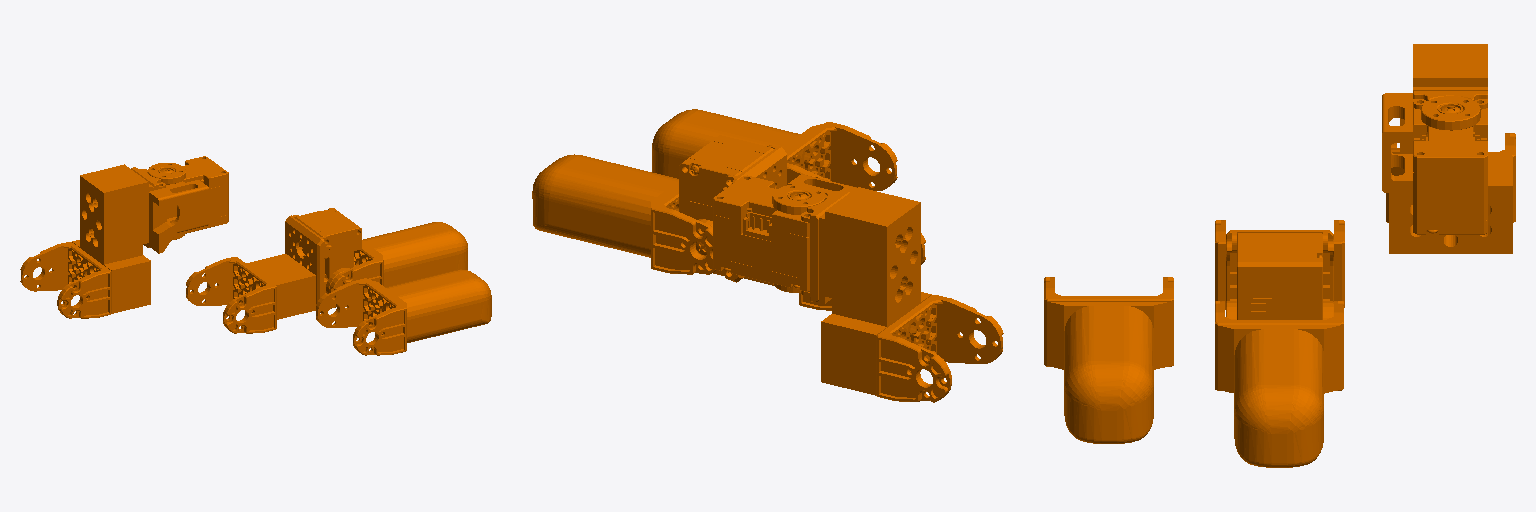
robot.urdf — onshape:
<robot name="onshape">
  <link name="palm_lower">
    <inertial>
      <origin xyz="0.0 0.0 0.0" rpy="0.0 -0.0 0.0"/>
      <mass value="0.237"/>
      <inertia ixx="0.000354094" ixy="-1.193e-06" ixz="-2.445e-06" iyy="0.000260915" iyz="-2.905e-06" izz="0.000529257"/>
    </inertial>
    <visual>
      <geometry>
        <mesh filename="../assets/leap/leap_hand/palm_lower.stl"/>
      </geometry>
      <origin xyz="-0.020095249652862544 0.025757756134899473 -0.034722403578460216" rpy="0.0 -0.0 0.0"/>
      <material name="palm_lower_material">
        <color rgba="0.6039215686274509 0.14901960784313725 0.14901960784313725 1.0"/>
      </material>
    </visual>
    <collision>
      <geometry>
        <mesh filename="../assets/leap/leap_hand/palm_lower.stl"/>
      </geometry>
      <origin xyz="-0.020095249652862544 0.025757756134899473 -0.034722403578460216" rpy="0.0 -0.0 0.0"/>
    </collision>
  </link>
  <link name="mcp_joint_long">
    <inertial>
      <origin xyz="0.0 0.0 0.0" rpy="0.0 -0.0 0.0"/>
      <mass value="0.044"/>
      <inertia ixx="1.1499e-05" ixy="3.049e-06" ixz="1.21e-07" iyy="7.796e-06" iyz="1.12e-07" izz="1.4759e-05"/>
    </inertial>
    <visual>
      <geometry>
        <mesh filename="custom_models/mcp_joint_long.stl"/>
      </geometry>
      <origin xyz="0.008406902261174496 0.0077662438597169954 0.014657354985032912" rpy="1.6375789613221e-15 -1.021047330249102e-30 1.7177968783327987e-31"/>
      <material name="mcp_joint_material">
        <color rgba="0.878 0.467 0.0 1.0"/>
      </material>
    </visual>
    <collision>
      <geometry>
        <mesh filename="custom_models/mcp_joint_long.stl"/>
      </geometry>
      <origin xyz="0.008406902261174496 0.0077662438597169954 0.014657354985032912" rpy="1.6375789613221e-15 -1.021047330249102e-30 1.7177968783327987e-31"/>
    </collision>
  </link>
  <link name="pip">
    <inertial>
      <origin xyz="0.0 0.0 0.0" rpy="0.0 -0.0 0.0"/>
      <mass value="0.032"/>
      <inertia ixx="4.798e-06" ixy="1.2e-08" ixz="4e-09" iyy="2.862e-06" iyz="1.1e-08" izz="4.234e-06"/>
    </inertial>
    <visual>
      <geometry>
        <mesh filename="../assets/leap/leap_hand/pip.stl"/>
      </geometry>
      <origin xyz="0.009643363092271328 0.0002999999999999895 0.0007840340104173765" rpy="-1.5707963267948966 -1.5707963267948963 0.0"/>
      <material name="pip_material">
        <color rgba="0.7490196078431373 0.7490196078431373 0.7490196078431373 1.0"/>
      </material>
    </visual>
    <collision>
      <geometry>
        <mesh filename="../assets/leap/leap_hand/pip.stl"/>
      </geometry>
      <origin xyz="0.009643363092271328 0.0002999999999999895 0.0007840340104173765" rpy="-1.5707963267948966 -1.5707963267948963 0.0"/>
    </collision>
  </link>
  <link name="dip">
    <inertial>
      <origin xyz="0.0 0.0 0.0" rpy="0.0 -0.0 0.0"/>
      <mass value="0.037"/>
      <inertia ixx="5.542e-06" ixy="-6.07e-07" ixz="-1.7e-08" iyy="5.727e-06" iyz="-2.3e-08" izz="6.682e-06"/>
    </inertial>
    <visual>
      <geometry>
        <mesh filename="../assets/leap/leap_hand/dip.stl"/>
      </geometry>
      <origin xyz="0.021133352895225003 -0.00843211914670488 0.00978508816209524" rpy="-3.141592653589793 4.507511124216441e-32 4.439548105392361e-32"/>
      <material name="dip_material">
        <color rgba="0.8666666666666667 0.8666666666666667 0.050980392156862744 1.0"/>
      </material>
    </visual>
    <collision>
      <geometry>
        <mesh filename="../assets/leap/leap_hand/dip.stl"/>
      </geometry>
      <origin xyz="0.021133352895225003 -0.00843211914670488 0.00978508816209524" rpy="-3.141592653589793 4.507511124216441e-32 4.439548105392361e-32"/>
    </collision>
  </link>
  <link name="fingertip">
    <inertial>
      <origin xyz="0.0 0.0 0.0" rpy="0.0 -0.0 0.0"/>
      <mass value="0.016"/>
      <inertia ixx="3.368e-06" ixy="1.15e-07" ixz="0.0" iyy="1.556e-06" iyz="0.0" izz="2.863e-06"/>
    </inertial>
    <visual>
      <geometry>
        <mesh filename="../assets/leap/leap_hand/fingertip.stl"/>
      </geometry>
      <origin xyz="0.013286424108533503 -0.006114238386541987 0.014499999999999498" rpy="3.141592653589793 1.1993117970061735e-33 4.439548105392361e-32"/>
      <material name="fingertip_material">
        <color rgba="0.8666666666666667 0.8666666666666667 0.050980392156862744 1.0"/>
      </material>
    </visual>
    <collision>
      <geometry>
        <mesh filename="../assets/leap/leap_hand/fingertip.stl"/>
      </geometry>
      <origin xyz="0.013286424108533503 -0.006114238386541987 0.014499999999999498" rpy="3.141592653589793 1.1993117970061735e-33 4.439548105392361e-32"/>
    </collision>
  </link>
  <link name="pip_4">
    <inertial>
      <origin xyz="0.0 0.0 0.0" rpy="0.0 -0.0 0.0"/>
      <mass value="0.032"/>
      <inertia ixx="4.798e-06" ixy="1.2e-08" ixz="4e-09" iyy="2.862e-06" iyz="1.1e-08" izz="4.234e-06"/>
    </inertial>
    <visual>
      <geometry>
        <mesh filename="../assets/leap/leap_hand/pip.stl"/>
      </geometry>
      <origin xyz="-0.005356636907728671 0.0002999999999999999 0.0007840340104173782" rpy="-1.5707963267948966 -1.5707963267948963 0.0"/>
      <material name="pip_material">
        <color rgba="0.7490196078431373 0.7490196078431373 0.7490196078431373 1.0"/>
      </material>
    </visual>
    <collision>
      <geometry>
        <mesh filename="../assets/leap/leap_hand/pip.stl"/>
      </geometry>
      <origin xyz="-0.005356636907728671 0.0002999999999999999 0.0007840340104173782" rpy="-1.5707963267948966 -1.5707963267948963 0.0"/>
    </collision>
  </link>
  <link name="thumb_pip">
    <inertial>
      <origin xyz="0.0 0.0 0.0" rpy="0.0 -0.0 0.0"/>
      <mass value="0.003"/>
      <inertia ixx="5.93e-07" ixy="0.0" ixz="0.0" iyy="5.49e-07" iyz="0.0" izz="2.24e-07"/>
    </inertial>
    <visual>
      <geometry>
        <mesh filename="../assets/leap/leap_hand/thumb_pip.stl"/>
      </geometry>
      <origin xyz="0.011961920770611187 -5.30825383648903e-16 -0.0158526489566642" rpy="1.5707963267948966 1.6050198443300153e-46 -3.9204996250525193e-59"/>
      <material name="thumb_pip_material">
        <color rgba="0.8666666666666667 0.8666666666666667 0.050980392156862744 1.0"/>
      </material>
    </visual>
    <collision>
      <geometry>
        <mesh filename="../assets/leap/leap_hand/thumb_pip.stl"/>
      </geometry>
      <origin xyz="0.011961920770611187 -5.30825383648903e-16 -0.0158526489566642" rpy="1.5707963267948966 1.6050198443300153e-46 -3.9204996250525193e-59"/>
    </collision>
  </link>
  <link name="thumb_dip">
    <inertial>
      <origin xyz="0.0 0.0 0.0" rpy="0.0 -0.0 0.0"/>
      <mass value="0.038"/>
      <inertia ixx="8.474e-06" ixy="2.41e-07" ixz="2.6e-08" iyy="3.841e-06" iyz="2.5e-08" izz="7.679e-06"/>
    </inertial>
    <visual>
      <geometry>
        <mesh filename="../assets/leap/leap_hand/thumb_dip.stl"/>
      </geometry>
      <origin xyz="0.043968715707239175 0.0579529529737092 -0.008628676449369476" rpy="1.94289029309401e-16 3.27515792264422e-15 1.112375852965736e-46"/>
      <material name="thumb_dip_material">
        <color rgba="0.8666666666666667 0.8666666666666667 0.050980392156862744 1.0"/>
      </material>
    </visual>
    <collision>
      <geometry>
        <mesh filename="../assets/leap/leap_hand/thumb_dip.stl"/>
      </geometry>
      <origin xyz="0.043968715707239175 0.0579529529737092 -0.008628676449369476" rpy="1.94289029309401e-16 3.27515792264422e-15 1.112375852965736e-46"/>
    </collision>
  </link>
  <link name="thumb_fingertip">
    <inertial>
      <origin xyz="0.0 0.0 0.0" rpy="0.0 -0.0 0.0"/>
      <mass value="0.049"/>
      <inertia ixx="2.0372e-05" ixy="-4.89e-07" ixz="-3e-08" iyy="4.336e-06" iyz="-9.7e-08" izz="1.9845e-05"/>
    </inertial>
    <visual>
      <geometry>
        <mesh filename="../assets/leap/leap_hand/thumb_fingertip.stl"/>
      </geometry>
      <origin xyz="0.06255953846266739 0.07845968291139699 0.048992911807332215" rpy="4.379057701015637e-47 -3.33066907387547e-16 1.2042408677791935e-46"/>
      <material name="thumb_fingertip_material">
        <color rgba="0.6039215686274509 0.14901960784313725 0.14901960784313725 1.0"/>
      </material>
    </visual>
    <collision>
      <geometry>
        <mesh filename="../assets/leap/leap_hand/thumb_fingertip.stl"/>
      </geometry>
      <origin xyz="0.06255953846266739 0.07845968291139699 0.048992911807332215" rpy="4.379057701015637e-47 -3.33066907387547e-16 1.2042408677791935e-46"/>
    </collision>
  </link>
  <link name="mcp_joint_2">
    <inertial>
      <origin xyz="0.0 0.0 0.0" rpy="0.0 -0.0 0.0"/>
      <mass value="0.044"/>
      <inertia ixx="1.1499e-05" ixy="3.049e-06" ixz="1.21e-07" iyy="7.796e-06" iyz="1.12e-07" izz="1.4759e-05"/>
    </inertial>
    <visual>
      <geometry>
        <mesh filename="../assets/leap/leap_hand/mcp_joint.stl"/>
      </geometry>
      <origin xyz="0.008406902261174496 0.0077662438597169954 0.014657354985032914" rpy="1.6375789613221e-15 -1.0076465469034e-30 2.1209300131419907e-61"/>
      <material name="mcp_joint_material">
        <color rgba="0.8666666666666667 0.8666666666666667 0.050980392156862744 1.0"/>
      </material>
    </visual>
    <collision>
      <geometry>
        <mesh filename="../assets/leap/leap_hand/mcp_joint.stl"/>
      </geometry>
      <origin xyz="0.008406902261174496 0.0077662438597169954 0.014657354985032914" rpy="1.6375789613221e-15 -1.0076465469034e-30 2.1209300131419907e-61"/>
    </collision>
  </link>
  <link name="pip_2">
    <inertial>
      <origin xyz="0.0 0.0 0.0" rpy="0.0 -0.0 0.0"/>
      <mass value="0.032"/>
      <inertia ixx="4.798e-06" ixy="1.2e-08" ixz="4e-09" iyy="2.862e-06" iyz="1.1e-08" izz="4.234e-06"/>
    </inertial>
    <visual>
      <geometry>
        <mesh filename="../assets/leap/leap_hand/pip.stl"/>
      </geometry>
      <origin xyz="0.009643363092271328 0.0002999999999999947 0.0007840340104173765" rpy="-1.5707963267948966 -1.5707963267948963 0.0"/>
      <material name="pip_material">
        <color rgba="0.7490196078431373 0.7490196078431373 0.7490196078431373 1.0"/>
      </material>
    </visual>
    <collision>
      <geometry>
        <mesh filename="../assets/leap/leap_hand/pip.stl"/>
      </geometry>
      <origin xyz="0.009643363092271328 0.0002999999999999947 0.0007840340104173765" rpy="-1.5707963267948966 -1.5707963267948963 0.0"/>
    </collision>
  </link>
  <link name="dip_2_long">
    <inertial>
      <origin xyz="0.0 0.0 0.0" rpy="0.0 -0.0 0.0"/>
      <mass value="0.037"/>
      <inertia ixx="5.542e-06" ixy="-6.07e-07" ixz="-1.7e-08" iyy="5.727e-06" iyz="-2.3e-08" izz="6.682e-06"/>
    </inertial>
    <visual>
      <geometry>
        <mesh filename="custom_models/dip_long.stl"/>
      </geometry>
      <origin xyz="0.021133352895225003 -0.008432119146704865 0.009785088162095237" rpy="-3.141592653589793 2.1146933785271956e-32 1.4408183216511869e-31"/>
      <material name="dip_material">
        <color rgba="0.878 0.467 0.0 1.0"/>
      </material>
    </visual>
    <collision>
      <geometry>
        <mesh filename="custom_models/dip_long.stl"/>
      </geometry>
      <origin xyz="0.021133352895225003 -0.008432119146704865 0.009785088162095237" rpy="-3.141592653589793 2.1146933785271956e-32 1.4408183216511869e-31"/>
    </collision>
  </link>
  <link name="fingertip_2_long">
    <inertial>
      <origin xyz="0.0 0.0 0.0" rpy="0.0 -0.0 0.0"/>
      <mass value="0.016"/>
      <inertia ixx="3.368e-06" ixy="1.15e-07" ixz="0.0" iyy="1.556e-06" iyz="0.0" izz="2.863e-06"/>
    </inertial>
    <visual>
      <geometry>
        <mesh filename="custom_models/fingertip_long.stl"/>
      </geometry>
      <origin xyz="0.013286424108533496 -0.006114238386542001 0.014499999999999496" rpy="3.141592653589793 -4.317959788283594e-33 1.4408183216511869e-31"/>
      <material name="fingertip_material">
        <color rgba="0.878 0.467 0.0 1.0"/>
      </material>
    </visual>
    <collision>
      <geometry>
        <mesh filename="custom_models/fingertip_long.stl"/>
      </geometry>
      <origin xyz="0.013286424108533496 -0.006114238386542001 0.014499999999999496" rpy="3.141592653589793 -4.317959788283594e-33 1.4408183216511869e-31"/>
    </collision>
  </link>
  <link name="mcp_joint_3">
    <inertial>
      <origin xyz="0.0 0.0 0.0" rpy="0.0 -0.0 0.0"/>
      <mass value="0.044"/>
      <inertia ixx="1.1499e-05" ixy="3.049e-06" ixz="1.21e-07" iyy="7.796e-06" iyz="1.12e-07" izz="1.4759e-05"/>
    </inertial>
    <visual>
      <geometry>
        <mesh filename="../assets/leap/leap_hand/mcp_joint.stl"/>
      </geometry>
      <origin xyz="0.0084069022611745 0.007766243859716996 0.014657354985032914" rpy="1.6375789613221e-15 -1.0059504988632627e-30 5.729641584552035e-32"/>
      <material name="mcp_joint_material">
        <color rgba="0.8666666666666667 0.8666666666666667 0.050980392156862744 1.0"/>
      </material>
    </visual>
    <collision>
      <geometry>
        <mesh filename="../assets/leap/leap_hand/mcp_joint.stl"/>
      </geometry>
      <origin xyz="0.0084069022611745 0.007766243859716996 0.014657354985032914" rpy="1.6375789613221e-15 -1.0059504988632627e-30 5.729641584552035e-32"/>
    </collision>
  </link>
  <link name="pip_3">
    <inertial>
      <origin xyz="0.0 0.0 0.0" rpy="0.0 -0.0 0.0"/>
      <mass value="0.032"/>
      <inertia ixx="4.798e-06" ixy="1.2e-08" ixz="4e-09" iyy="2.862e-06" iyz="1.1e-08" izz="4.234e-06"/>
    </inertial>
    <visual>
      <geometry>
        <mesh filename="../assets/leap/leap_hand/pip.stl"/>
      </geometry>
      <origin xyz="0.009643363092271331 0.00029999999999998084 0.0007840340104173765" rpy="-1.5707963267948966 -1.5707963267948963 0.0"/>
      <material name="pip_material">
        <color rgba="0.7490196078431373 0.7490196078431373 0.7490196078431373 1.0"/>
      </material>
    </visual>
    <collision>
      <geometry>
        <mesh filename="../assets/leap/leap_hand/pip.stl"/>
      </geometry>
      <origin xyz="0.009643363092271331 0.00029999999999998084 0.0007840340104173765" rpy="-1.5707963267948966 -1.5707963267948963 0.0"/>
    </collision>
  </link>
  <link name="dip_3">
    <inertial>
      <origin xyz="0.0 0.0 0.0" rpy="0.0 -0.0 0.0"/>
      <mass value="0.037"/>
      <inertia ixx="5.542e-06" ixy="-6.07e-07" ixz="-1.7e-08" iyy="5.727e-06" iyz="-2.3e-08" izz="6.682e-06"/>
    </inertial>
    <visual>
      <geometry>
        <mesh filename="../assets/leap/leap_hand/dip.stl"/>
      </geometry>
      <origin xyz="0.021133352895225006 -0.008432119146704865 0.009785088162095237" rpy="-3.141592653589793 -1.4095651113919093e-33 1.5565411607615035e-32"/>
      <material name="dip_material">
        <color rgba="0.8666666666666667 0.8666666666666667 0.050980392156862744 1.0"/>
      </material>
    </visual>
    <collision>
      <geometry>
        <mesh filename="../assets/leap/leap_hand/dip.stl"/>
      </geometry>
      <origin xyz="0.021133352895225006 -0.008432119146704865 0.009785088162095237" rpy="-3.141592653589793 -1.4095651113919093e-33 1.5565411607615035e-32"/>
    </collision>
  </link>
  <link name="fingertip_3_long">
    <inertial>
      <origin xyz="0.0 0.0 0.0" rpy="0.0 -0.0 0.0"/>
      <mass value="0.016"/>
      <inertia ixx="3.368e-06" ixy="1.15e-07" ixz="0.0" iyy="1.556e-06" iyz="0.0" izz="2.863e-06"/>
    </inertial>
    <visual>
      <geometry>
        <mesh filename="custom_models/fingertip_long.stl"/>
      </geometry>
      <origin xyz="0.013286424108533501 -0.006114238386541987 0.0144999999999995" rpy="3.141592653589793 8.61707169505754e-33 1.5565411607615035e-32"/>
      <material name="fingertip_material">
        <color rgba="0.878 0.467 0.0 1.0"/>
      </material>
    </visual>
    <collision>
      <geometry>
        <mesh filename="custom_models/fingertip_long.stl"/>
      </geometry>
      <origin xyz="0.013286424108533501 -0.006114238386541987 0.0144999999999995" rpy="3.141592653589793 8.61707169505754e-33 1.5565411607615035e-32"/>
    </collision>
  </link>
  <joint name="1" type="revolute">
    <parent link="palm_lower"/>
    <child link="mcp_joint_long"/>
    <origin xyz="-0.007095249652862546 0.023057756134899472 -0.01872240357846022" rpy="1.570796326794895 1.5707963267948946 0.0"/>
    <axis xyz="0.0 0.0 -1.0"/>
    <limit effort="0.95" velocity="8.48" lower="-0.314" upper="2.23"/>
  </joint>
  <joint name="0" type="revolute">
    <parent link="mcp_joint_long"/>
    <child link="pip"/>
    <origin xyz="-0.012200000000000007713 0.053099999999999994982 0.014500000000000000736" rpy="-1.5707963267948966 -1.0065212660796337e-15 1.5707963267948943"/>
    <axis xyz="0.0 0.0 -1.0"/>
    <limit effort="0.95" velocity="8.48" lower="-1.047" upper="1.047"/>
  </joint>
  <joint name="2" type="revolute">
    <parent link="pip"/>
    <child link="dip"/>
    <origin xyz="0.014999999999999968 0.014299999999999905 -0.012999999999999824" rpy="1.570796326794896 -1.5707963267948963 0.0"/>
    <axis xyz="0.0 0.0 -1.0"/>
    <limit effort="0.95" velocity="8.48" lower="-0.506" upper="1.885"/>
  </joint>
  <joint name="3" type="revolute">
    <parent link="dip"/>
    <child link="fingertip"/>
    <origin xyz="-4.088058249557269e-09 -0.03610000421036737 0.0002000000000000786" rpy="4.5935029425113685e-17 -2.8730071914463795e-16 4.439548105392361e-32"/>
    <axis xyz="0.0 0.0 -1.0"/>
    <limit effort="0.95" velocity="8.48" lower="-0.366" upper="2.042"/>
  </joint>
  <joint name="12" type="revolute">
    <parent link="palm_lower"/>
    <child link="pip_4"/>
    <origin xyz="-0.06939524965286253 -0.0012422438651005258 -0.021622403578460216" rpy="-8.238176646493942e-17 1.5707963267948957 0.0"/>
    <axis xyz="0.0 0.0 -1.0"/>
    <limit effort="0.95" velocity="8.48" lower="-0.349" upper="2.094"/>
  </joint>
  <joint name="13" type="revolute">
    <parent link="pip_4"/>
    <child link="thumb_pip"/>
    <origin xyz="-2.7755575615628914e-17 0.014300000000000005 -0.013000000000000012" rpy="1.570796326794896 -1.5707963267948963 0.0"/>
    <axis xyz="0.0 0.0 -1.0"/>
    <limit effort="0.95" velocity="8.48" lower="-0.47" upper="2.443"/>
  </joint>
  <joint name="14" type="revolute">
    <parent link="thumb_pip"/>
    <child link="thumb_dip"/>
    <origin xyz="0.0 0.014499999999999966 -0.017000000000000053" rpy="-1.5707963267948966 1.6050198443300131e-46 -1.9721522630516625e-31"/>
    <axis xyz="0.0 0.0 -1.0"/>
    <limit effort="0.95" velocity="8.48" lower="-1.2" upper="1.9"/>
  </joint>
  <joint name="15" type="revolute">
    <parent link="thumb_dip"/>
    <child link="thumb_fingertip"/>
    <origin xyz="-1.249000902703301e-16 0.046599999999999864 0.0001999999999999771" rpy="1.506395849149178e-44 5.423418723393526e-31 3.141592653589793"/>
    <axis xyz="0.0 0.0 -1.0"/>
    <limit effort="0.95" velocity="8.48" lower="-1.34" upper="1.88"/>
  </joint>
  <joint name="5" type="revolute">
    <parent link="palm_lower"/>
    <child link="mcp_joint_2"/>
    <origin xyz="-0.007095249652862546 -0.022392243865100525 -0.01872240357846022" rpy="1.570796326794895 1.5707963267948946 0.0"/>
    <axis xyz="0.0 0.0 -1.0"/>
    <limit effort="0.95" velocity="8.48" lower="-0.314" upper="2.23"/>
  </joint>
  <joint name="4" type="revolute">
    <parent link="mcp_joint_2"/>
    <child link="pip_2"/>
    <origin xyz="-0.012200000000000008 0.038099999999999995 0.0145" rpy="-1.5707963267948966 -1.0065212660796337e-15 1.5707963267948943"/>
    <axis xyz="0.0 0.0 -1.0"/>
    <limit effort="0.95" velocity="8.48" lower="-1.047" upper="1.047"/>
  </joint>
  <joint name="6" type="revolute">
    <parent link="pip_2"/>
    <child link="dip_2_long"/>
    <origin xyz="0.014999999999999968 0.014299999999999905 -0.012999999999999824" rpy="1.570796326794896 -1.5707963267948963 0.0"/>
    <axis xyz="0.0 0.0 -1.0"/>
    <limit effort="0.95" velocity="8.48" lower="-0.506" upper="1.885"/>
  </joint>
  <joint name="7" type="revolute">
    <parent link="dip_2_long"/>
    <child link="fingertip_2_long"/>
    <origin xyz="-4.0880582495572692636e-09 -0.051100004210367367397 0.00020000000000007858714" rpy="4.5935029425113685e-17 -2.8730071914463795e-16 4.439548105392361e-32"/>
    <axis xyz="0.0 0.0 -1.0"/>
    <limit effort="0.95" velocity="8.48" lower="-0.366" upper="2.042"/>
  </joint>
  <joint name="9" type="revolute">
    <parent link="palm_lower"/>
    <child link="mcp_joint_3"/>
    <origin xyz="-0.007095249652862546 -0.06784224386510052 -0.01872240357846022" rpy="1.570796326794895 1.5707963267948946 0.0"/>
    <axis xyz="0.0 0.0 -1.0"/>
    <limit effort="0.95" velocity="8.48" lower="-0.314" upper="2.23"/>
  </joint>
  <joint name="8" type="revolute">
    <parent link="mcp_joint_3"/>
    <child link="pip_3"/>
    <origin xyz="-0.012200000000000008 0.038099999999999995 0.0145" rpy="-1.5707963267948966 -1.0065212660796337e-15 1.5707963267948943"/>
    <axis xyz="0.0 0.0 -1.0"/>
    <limit effort="0.95" velocity="8.48" lower="-1.047" upper="1.047"/>
  </joint>
  <joint name="10" type="revolute">
    <parent link="pip_3"/>
    <child link="dip_3"/>
    <origin xyz="0.014999999999999968 0.014299999999999905 -0.012999999999999824" rpy="1.570796326794896 -1.5707963267948963 0.0"/>
    <axis xyz="0.0 0.0 -1.0"/>
    <limit effort="0.95" velocity="8.48" lower="-0.506" upper="1.885"/>
  </joint>
  <joint name="11" type="revolute">
    <parent link="dip_3"/>
    <child link="fingertip_3_long"/>
    <origin xyz="-4.088058249557269e-09 -0.03610000421036737 0.0002000000000000786" rpy="4.5935029425113685e-17 -2.8730071914463795e-16 4.439548105392361e-32"/>
    <axis xyz="0.0 0.0 -1.0"/>
    <limit effort="0.95" velocity="8.48" lower="-0.366" upper="2.042"/>
  </joint>
</robot>

--- What the picture shows (computed from the rendered views, not written in the file) ---
The picture shows the robot from 3 angles, left to right: view 1: azimuth 30°, elevation 25°; view 2: azimuth 150°, elevation 25°; view 3: azimuth 270°, elevation 25°; orthographic projection.
Robot: onshape — 17 links, 16 joints (16 revolute); root link palm_lower; default pose: all joints at 0.
Links seen in each view (by area): view 1: mcp_joint_long, dip_2_long, fingertip_3_long, fingertip_2_long; view 2: mcp_joint_long, fingertip_2_long, fingertip_3_long, dip_2_long; view 3: mcp_joint_long, fingertip_3_long, fingertip_2_long, dip_2_long.
Link boxes in pixels (box(x1,y1,x2,y2)): mcp_joint_long: box(20, 156, 228, 318); dip_2_long: box(186, 208, 361, 333); fingertip_3_long: box(316, 269, 491, 355); fingertip_2_long: box(329, 222, 467, 306); mcp_joint_long: box(713, 174, 1003, 402); fingertip_2_long: box(532, 154, 716, 274); fingertip_3_long: box(652, 109, 897, 190); dip_2_long: box(679, 135, 925, 310); mcp_joint_long: box(1382, 44, 1515, 253); fingertip_3_long: box(1044, 277, 1173, 443); fingertip_2_long: box(1215, 301, 1343, 467); dip_2_long: box(1215, 220, 1344, 319).
Bounding box of the posed robot: 0.1766 × 0.1259 × 0.0549 m (x, y, z).
4 mesh visuals loaded from 11 distinct referenced files (3 binary STL); not drawn: 13 (reference not matched to a file when rendering).